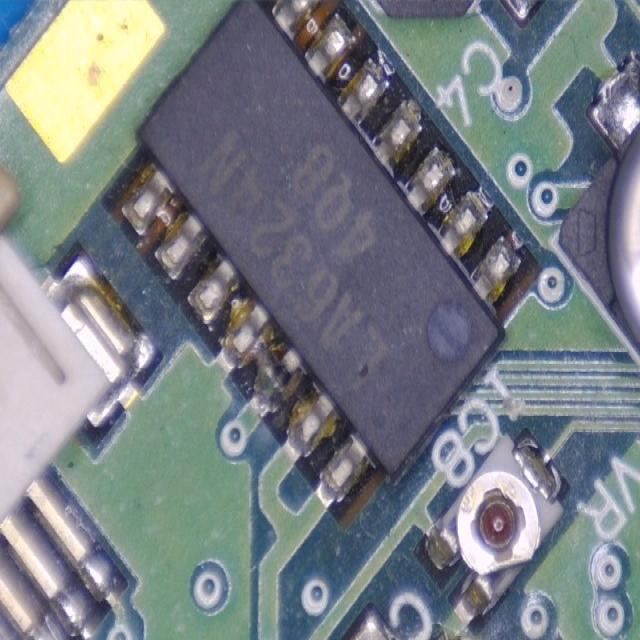Short_circuit: (222, 301, 302, 413)
